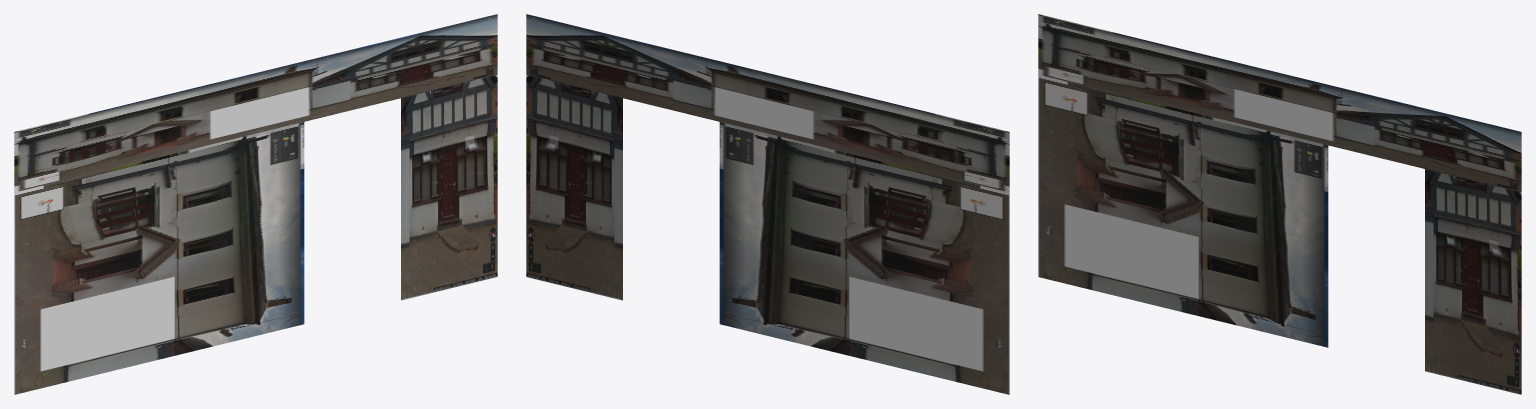
File: szd.glb
3 renders of one model, left to right at view 1: azimuth 30°, elevation 25°; view 2: azimuth 150°, elevation 25°; view 3: azimuth 330°, elevation 25°, orthographic.
Visible parts, largest first — view 1: 0_mesh_; view 2: 0_mesh_; view 3: 0_mesh_.
Part boxes in pixels (x1=…): 0_mesh_: x1=14, y1=14, x2=497, y2=394; 0_mesh_: x1=526, y1=14, x2=1009, y2=394; 0_mesh_: x1=1038, y1=14, x2=1521, y2=394.
Size of the model in its own units: 5 by 2.6 by 5.77e-16.
1 material, 1 textured.
